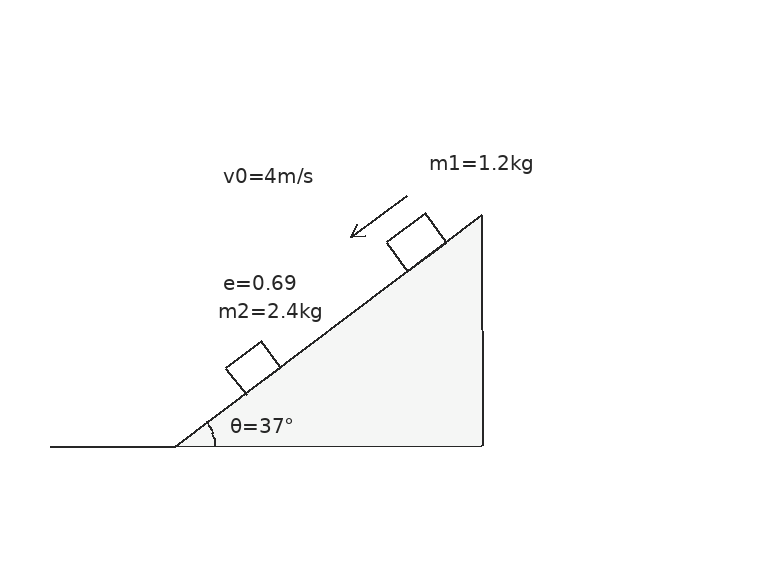block: (384, 211, 448, 273), (223, 339, 282, 395)
ramp: (173, 213, 484, 448)
